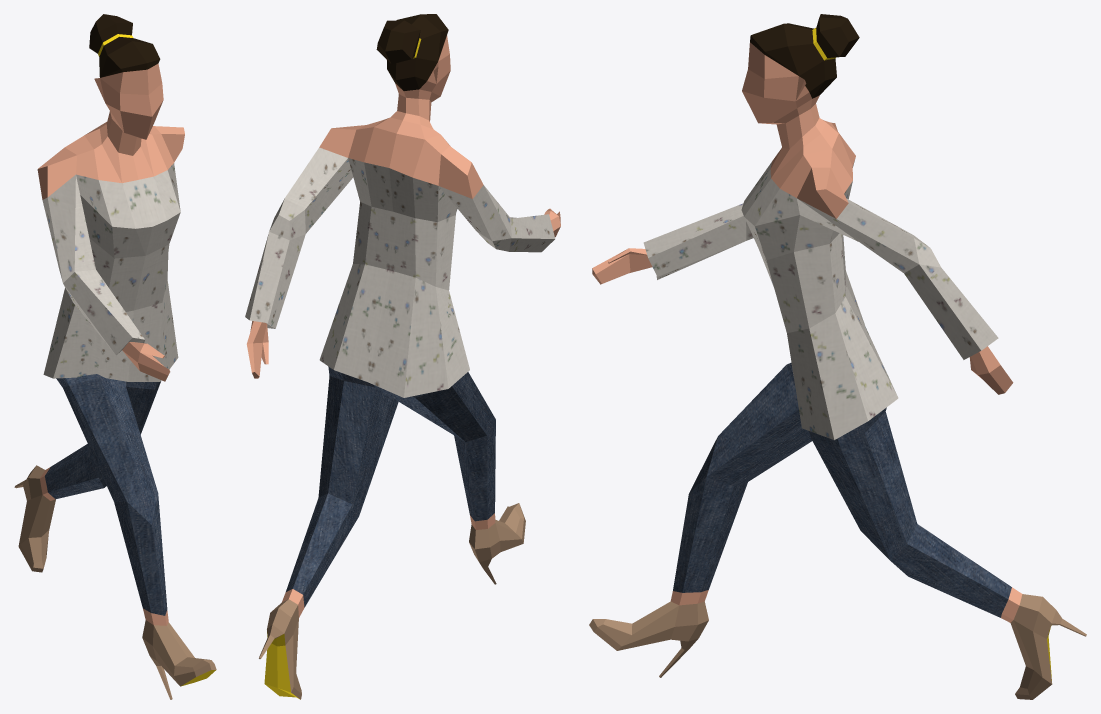
File: SpringWomanA.004.glb
3 renders of one model, left to right at view 1: azimuth 30°, elevation 25°; view 2: azimuth 150°, elevation 25°; view 3: azimuth 270°, elevation 25°, orthographic. The views are drawn at different scales.
Parts seen in each view (by area): view 1: SpringWomanA.004; view 2: SpringWomanA.004; view 3: SpringWomanA.004.
Part boxes in pixels (bbox=[...]): SpringWomanA.004: bbox=[14, 14, 216, 699]; SpringWomanA.004: bbox=[245, 14, 560, 699]; SpringWomanA.004: bbox=[589, 14, 1086, 699].
Bounding box in the file's own units: 0.4483 × 1.59 × 1.07.
1 material, 1 textured.
